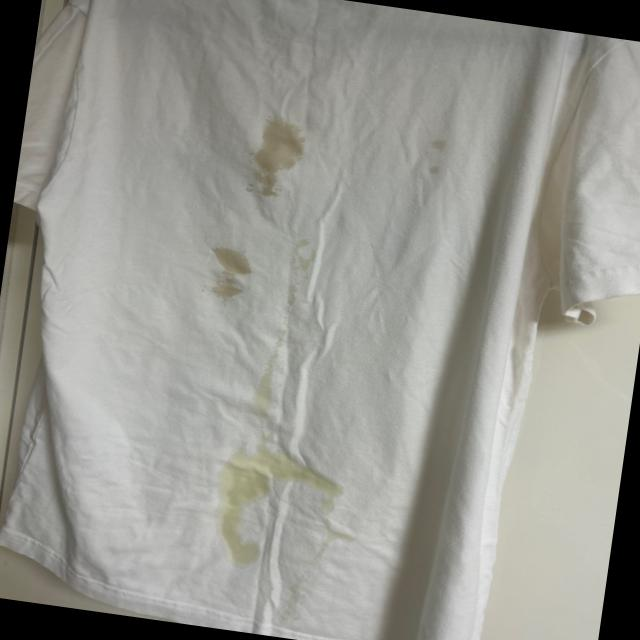stain: (247, 114, 306, 199), (214, 443, 308, 489), (208, 476, 278, 534), (210, 518, 270, 578), (249, 356, 281, 420), (218, 238, 256, 280), (210, 268, 248, 309), (296, 471, 346, 502), (280, 246, 313, 280), (316, 522, 346, 558), (421, 137, 448, 176), (250, 432, 283, 455), (314, 495, 341, 523), (277, 280, 301, 308), (286, 572, 302, 603), (270, 334, 288, 358)
